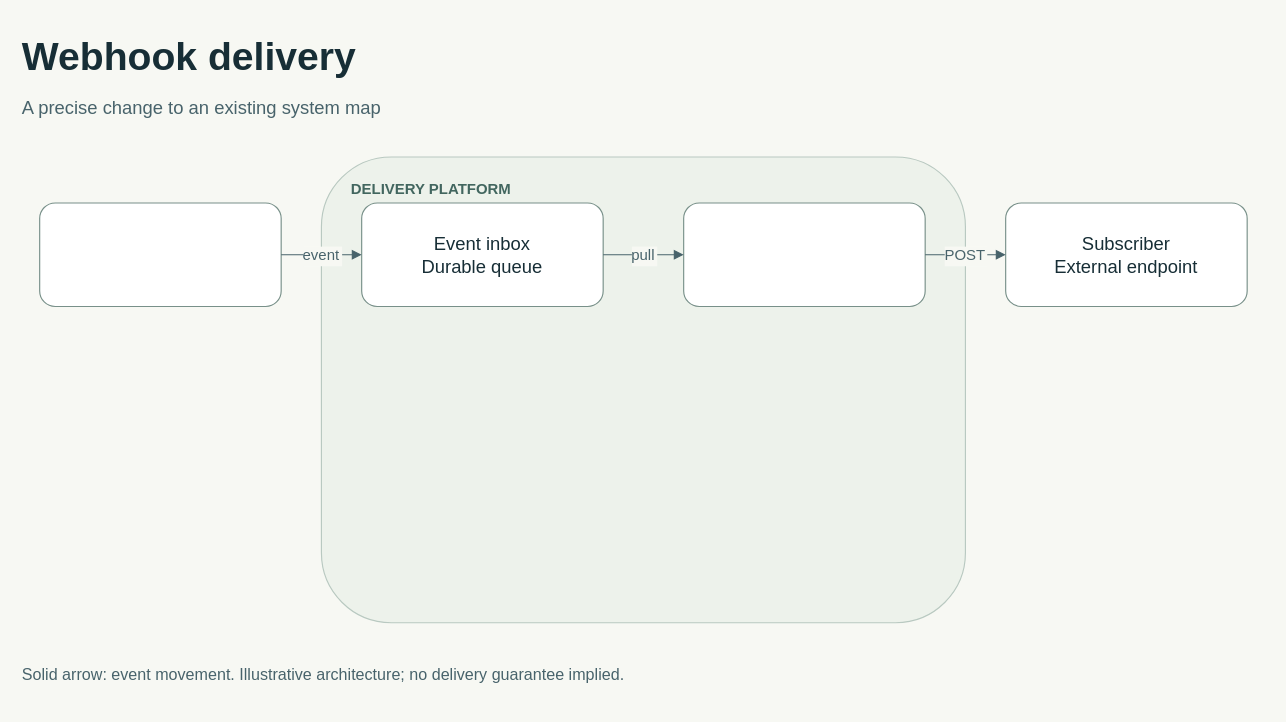
Image size: 1286x722. Some labels were removed from this diagram. The shapes that lost their labels are listed below. From the top down, each one's centre as x and y in pixels, then its label:
pixel 160 254: Publisher Emits an event
pixel 804 254: Dispatcher Sends the webhook
